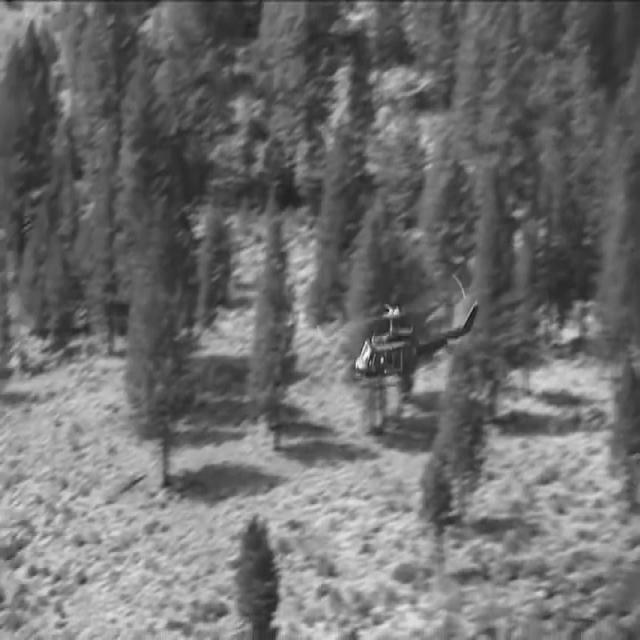helikopter: (333, 280, 499, 408)
